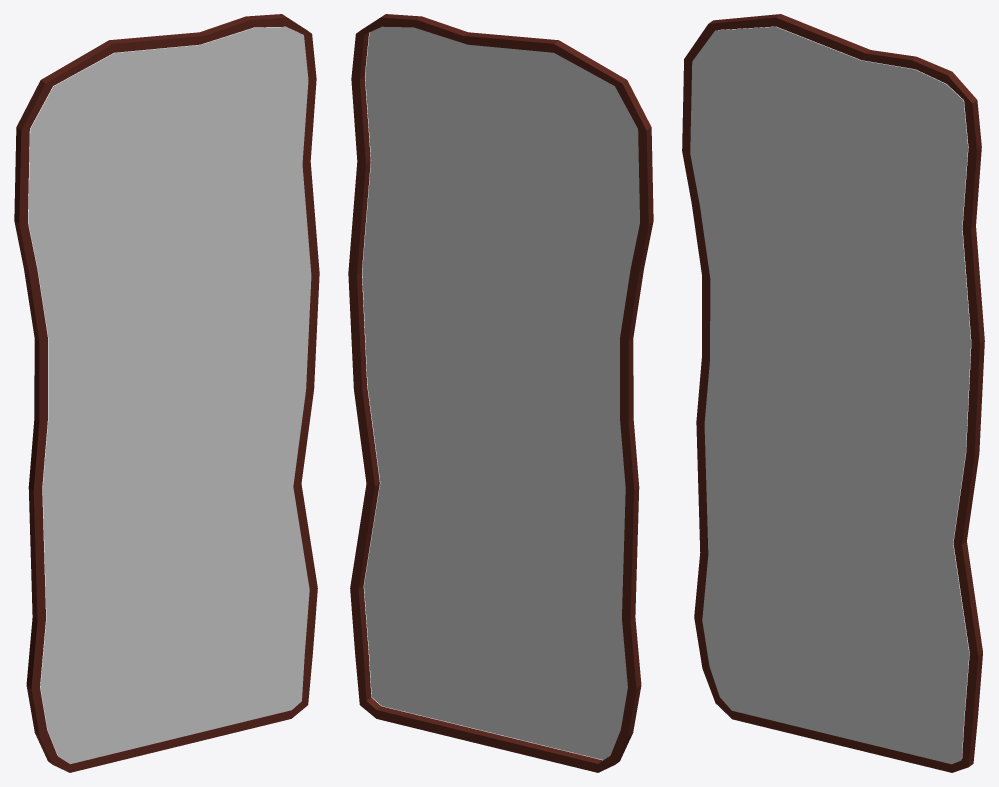
File: Mirror.fbx
3 views of the same model, side by side, from view 1: azimuth 30°, elevation 25°; view 2: azimuth 150°, elevation 25°; view 3: azimuth 330°, elevation 25° (orthographic).
Visible parts, largest first — view 1: Cube.001; view 2: Cube.001; view 3: Cube.001.
Boxes of the visible parts, box(x1,y1,x2,y2) form: Cube.001: box(14, 14, 319, 772); Cube.001: box(348, 14, 653, 772); Cube.001: box(682, 14, 984, 772).
Size of the model in its own units: 78.34 by 179 by 2.41.
